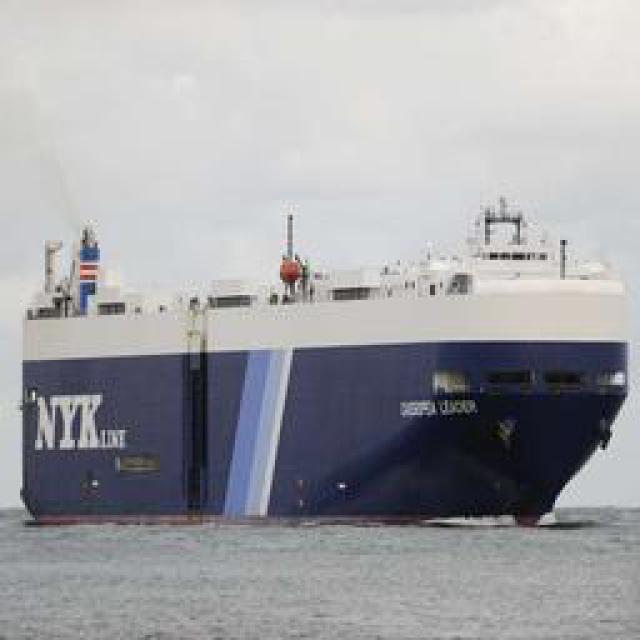Ship: (166, 235, 626, 523)
